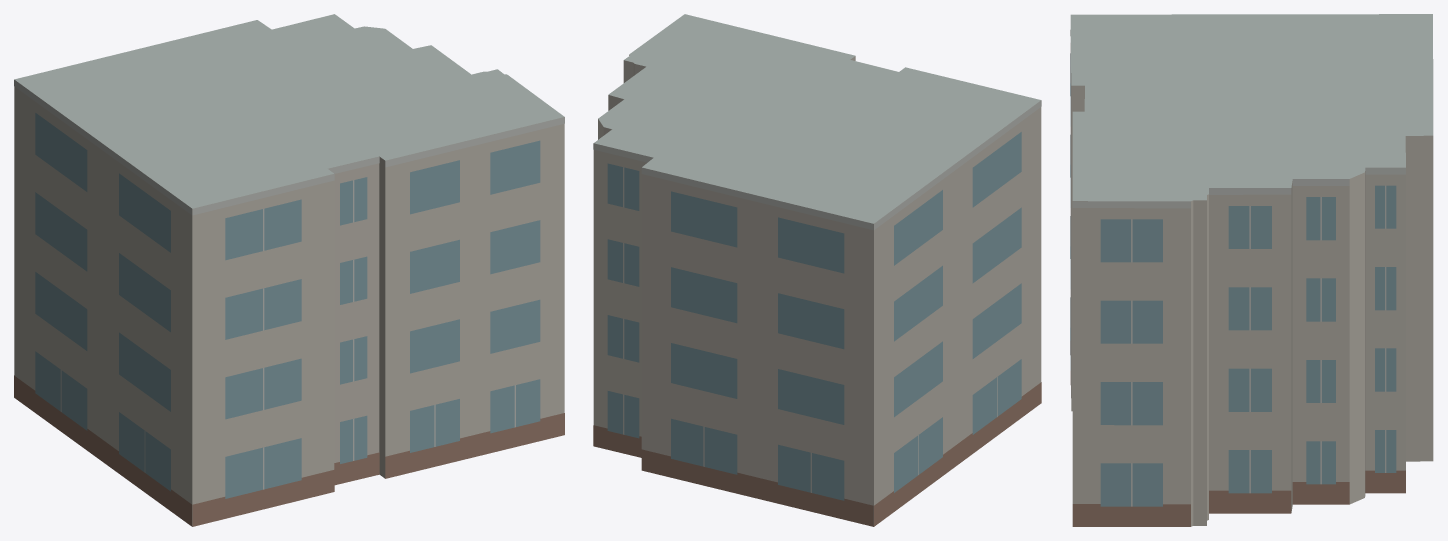
Rendered from survey-upis-32835226.glb.
3 views of the same model, side by side, from view 1: azimuth 30°, elevation 25°; view 2: azimuth 150°, elevation 25°; view 3: azimuth 270°, elevation 25° (orthographic). The views are drawn at different scales.
Visible parts, largest first — view 1: survey-upis-32835226.tmp; view 2: survey-upis-32835226.tmp; view 3: survey-upis-32835226.tmp.
Part boxes in pixels (x1,y1,x2,y2): survey-upis-32835226.tmp: (14,14,564,526); survey-upis-32835226.tmp: (593,14,1041,526); survey-upis-32835226.tmp: (1070,14,1433,526).
Bounding box in the file's own units: 14.07 × 11.4 × 11.53.
